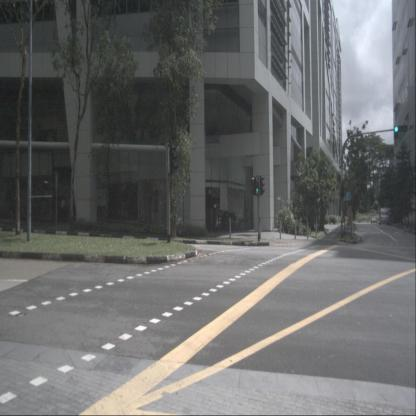human-pedestrian-adult: (61, 197, 68, 221)
vehicle-car: (378, 207, 390, 225), (371, 217, 377, 224)
